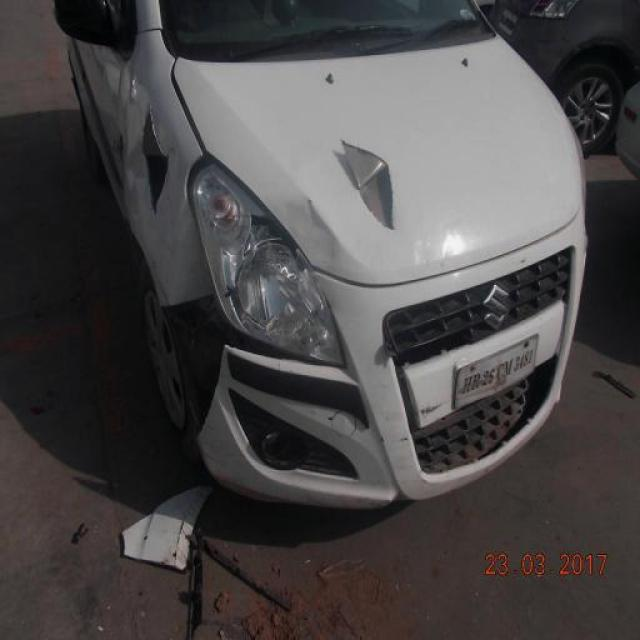Car-Damage: (220, 210, 322, 356), (164, 289, 248, 445), (335, 134, 401, 239), (138, 111, 177, 230)
